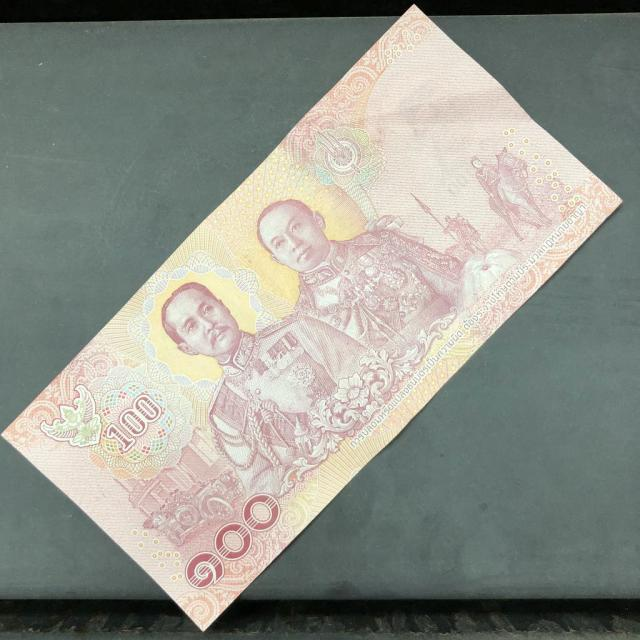THAI100: (2, 8, 621, 629)
